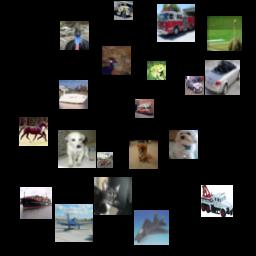airplane: (55, 204, 93, 242), (134, 210, 169, 245)
automobile: (205, 60, 240, 95), (185, 76, 204, 95)
bird: (207, 16, 242, 51), (60, 21, 89, 50), (102, 46, 131, 75)
cat: (94, 177, 132, 215)
dog: (58, 130, 96, 168), (169, 130, 198, 159), (129, 140, 158, 169)
frog: (147, 61, 166, 80)
ship: (20, 187, 52, 219), (59, 80, 88, 109)
truck: (157, 4, 195, 42), (201, 185, 233, 217), (114, 1, 133, 20), (135, 99, 154, 118), (97, 152, 113, 168)
